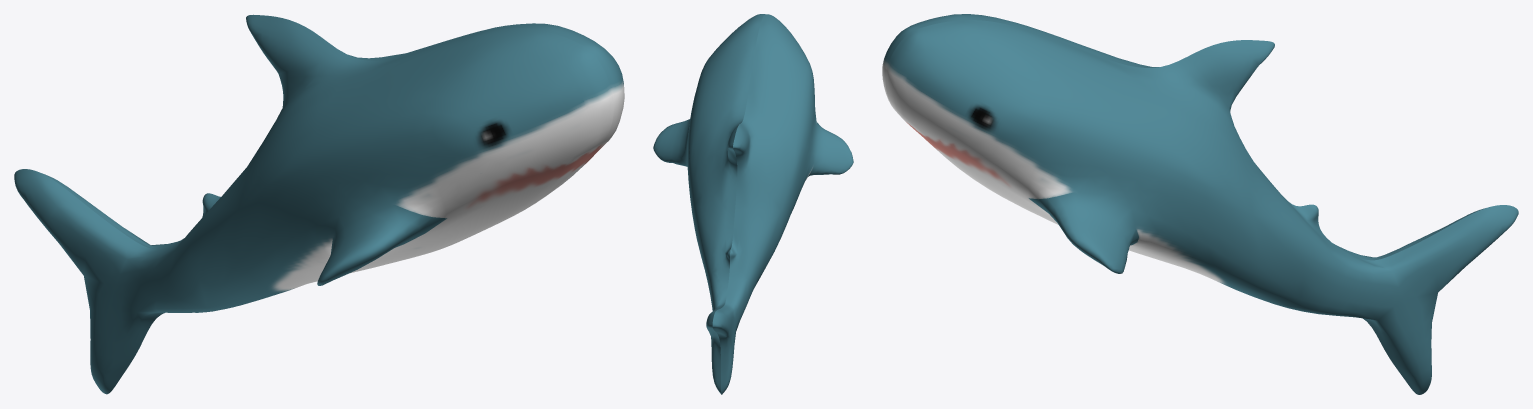
File: blaHAJ.gltf
3 renders of one model, left to right at view 1: azimuth 30°, elevation 25°; view 2: azimuth 150°, elevation 25°; view 3: azimuth 270°, elevation 25°, orthographic. The views are drawn at different scales.
Parts seen in each view (by area): view 1: Object_2; view 2: Object_2; view 3: Object_2.
Boxes of the visible parts, x1,y1,x2,y2 form: Object_2: (14,14,624,394); Object_2: (653,14,853,394); Object_2: (882,14,1518,394).
Bounding box in the file's own units: 1.73 × 2.38 × 3.03.
1 material, 1 textured.
